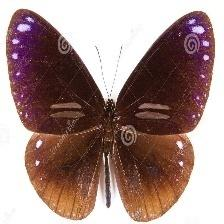butterfly: (7, 11, 215, 222)
